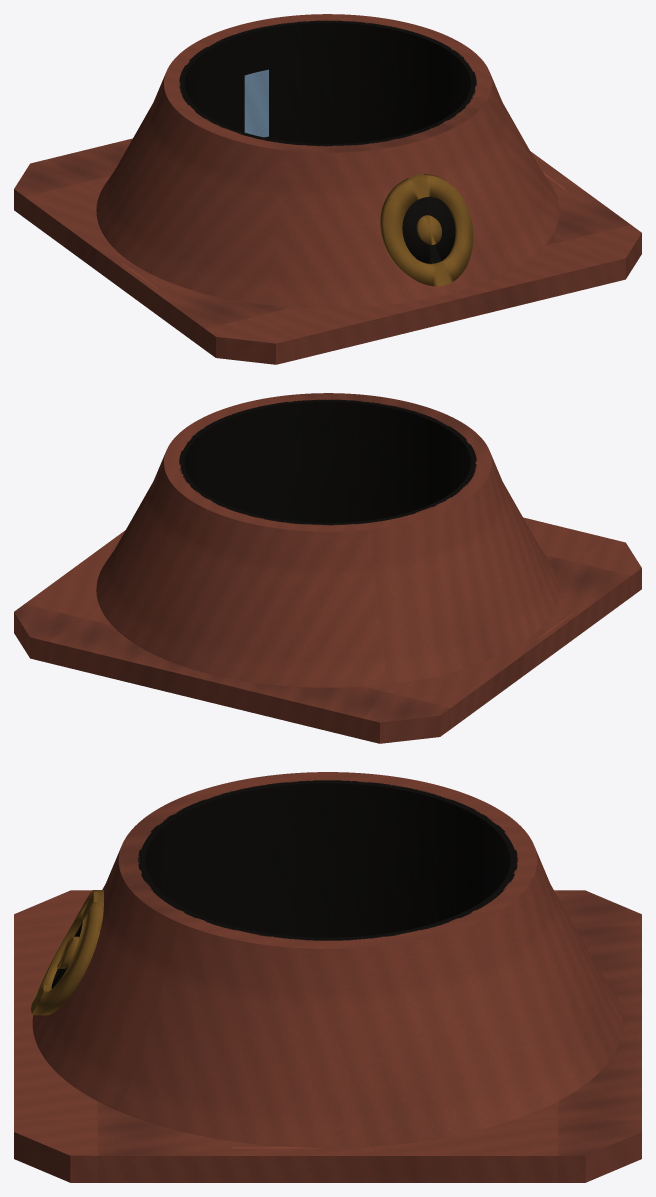
The picture shows the model from 3 angles, top to bottom: view 1: azimuth 30°, elevation 25°; view 2: azimuth 150°, elevation 25°; view 3: azimuth 270°, elevation 25°; orthographic projection. The views are drawn at different scales.
Visible parts, largest first — view 1: BR12 tapered rose shell, BR12 square hollow foundation, BR12 inner structural liner, BR12 broad gold face rim, BR12 dark face backing, BR12 gold face centre; view 2: BR12 tapered rose shell, BR12 square hollow foundation, BR12 inner structural liner; view 3: BR12 tapered rose shell, BR12 square hollow foundation, BR12 inner structural liner, BR12 broad gold face rim.
Boxes of the visible parts, x1,y1,x2,y2 form: BR12 tapered rose shell: (96,14,559,308); BR12 square hollow foundation: (14,138,641,364); BR12 inner structural liner: (179,20,476,146); BR12 broad gold face rim: (380,174,473,286); BR12 dark face backing: (402,197,455,263); BR12 gold face centre: (416,215,441,244); BR12 tapered rose shell: (96,393,559,687); BR12 square hollow foundation: (14,517,641,743); BR12 inner structural liner: (179,399,476,525); BR12 tapered rose shell: (32,772,623,1147); BR12 square hollow foundation: (14,890,641,1182); BR12 inner structural liner: (138,780,517,940); BR12 broad gold face rim: (31,890,103,1015).
Size of the model in its own units: 2.1 by 0.7 by 2.1.
Materials: 4 (4 with a texture image).
